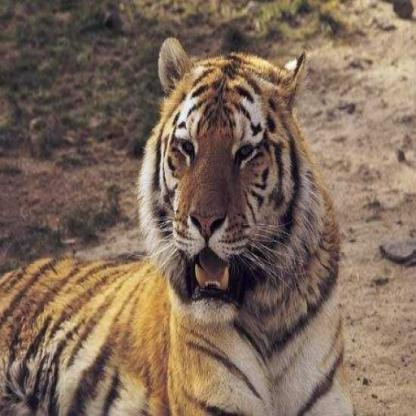Tiger: (0, 33, 343, 415)
